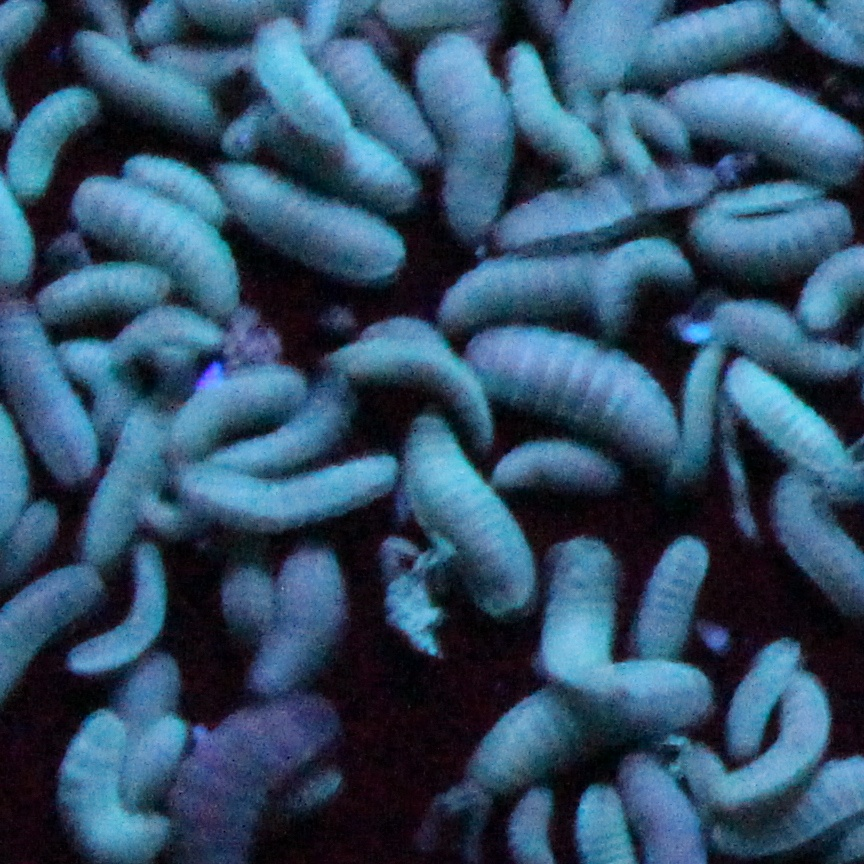larve: (462, 655, 715, 800), (462, 311, 678, 466), (393, 410, 540, 620), (213, 155, 411, 280), (71, 175, 244, 304), (64, 31, 224, 142), (344, 330, 497, 446), (426, 37, 513, 235), (689, 182, 853, 282), (258, 113, 427, 206), (213, 368, 360, 473), (497, 171, 708, 244), (533, 535, 628, 697), (720, 666, 831, 804), (324, 44, 447, 166), (507, 40, 609, 180), (186, 453, 397, 519), (82, 399, 169, 555), (251, 11, 351, 133), (257, 544, 338, 693), (724, 359, 838, 464), (446, 250, 615, 319), (182, 360, 309, 450), (75, 551, 164, 664), (487, 433, 631, 499), (638, 530, 713, 655), (13, 88, 95, 197), (106, 711, 193, 810), (118, 151, 231, 224), (668, 348, 720, 493), (600, 235, 682, 324), (733, 640, 793, 753), (113, 302, 228, 359), (46, 262, 155, 310), (604, 90, 651, 175), (628, 91, 688, 148)
